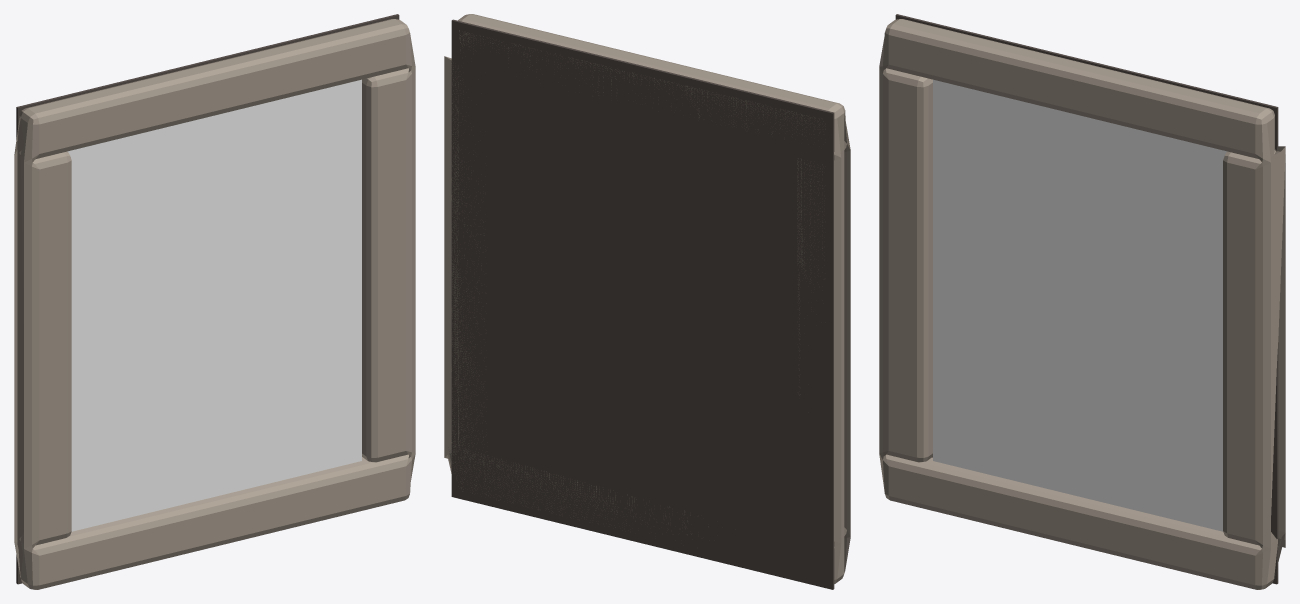
The model's file is Photo Frame Portrait.fbx.
3 views of the same model, side by side, from view 1: azimuth 30°, elevation 25°; view 2: azimuth 150°, elevation 25°; view 3: azimuth 330°, elevation 25° (orthographic).
Visible parts, largest first — view 1: Photo, Frame, Back; view 2: Back, Frame; view 3: Photo, Frame, Back.
Part boxes in pixels (x1,y1,x2,y2): Photo: [67, 79, 361, 531]; Frame: [14, 19, 415, 589]; Back: [16, 14, 399, 584]; Back: [451, 19, 834, 589]; Frame: [444, 14, 850, 583]; Photo: [933, 79, 1227, 531]; Frame: [879, 19, 1285, 589]; Back: [895, 14, 1278, 584].
Bounding box in the file's own units: 0.3202 × 0.37 × 0.022.
